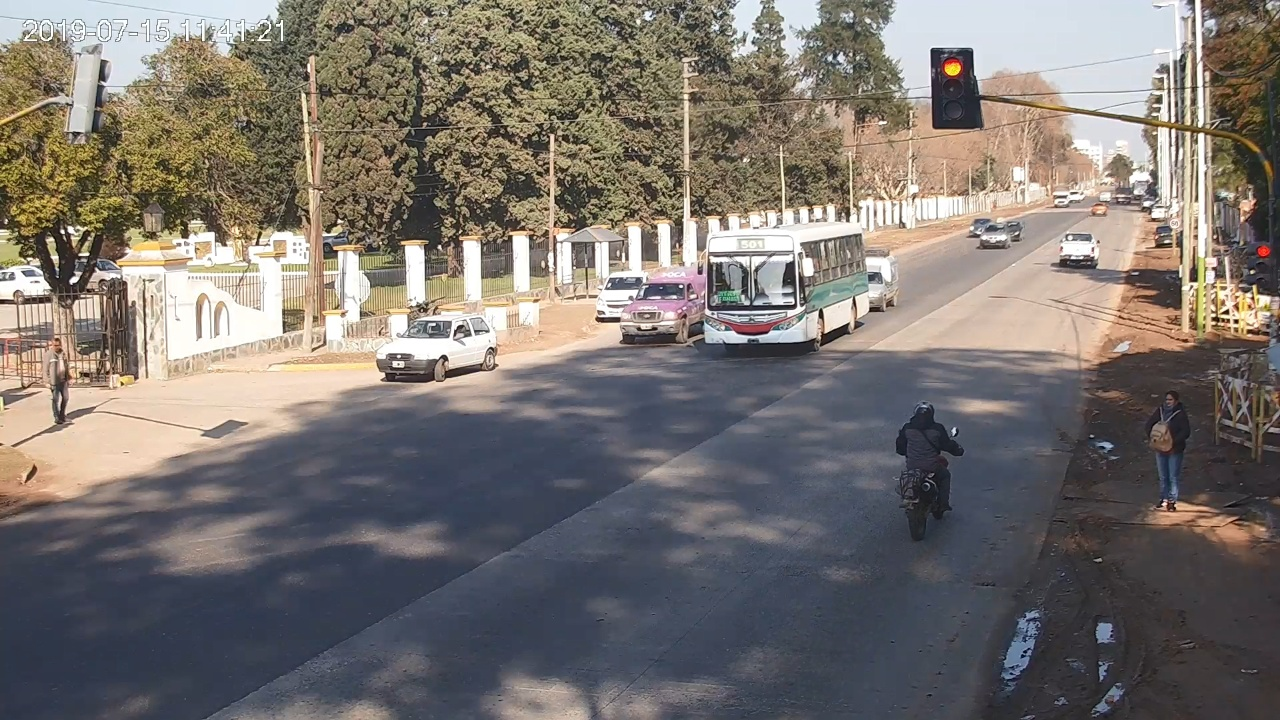car: (1059, 231, 1100, 268)
front bus: (698, 222, 869, 352)
front car: (376, 314, 498, 381)
motorcycle: (894, 426, 965, 539)
traffic light: (940, 56, 966, 120), (1255, 243, 1271, 289)
